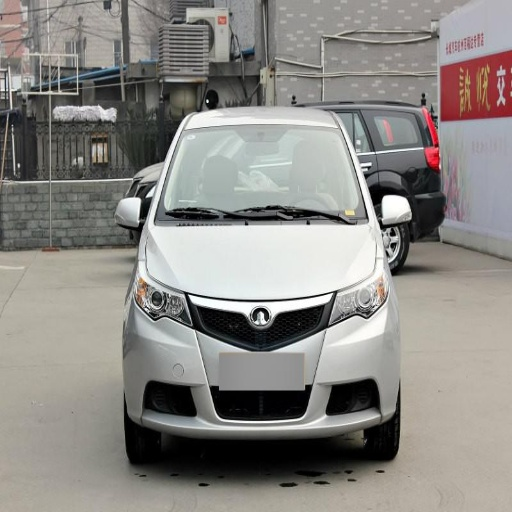front_bumper: (127, 291, 398, 444)
front_right_light: (132, 272, 191, 326)
hood: (145, 224, 378, 297)
